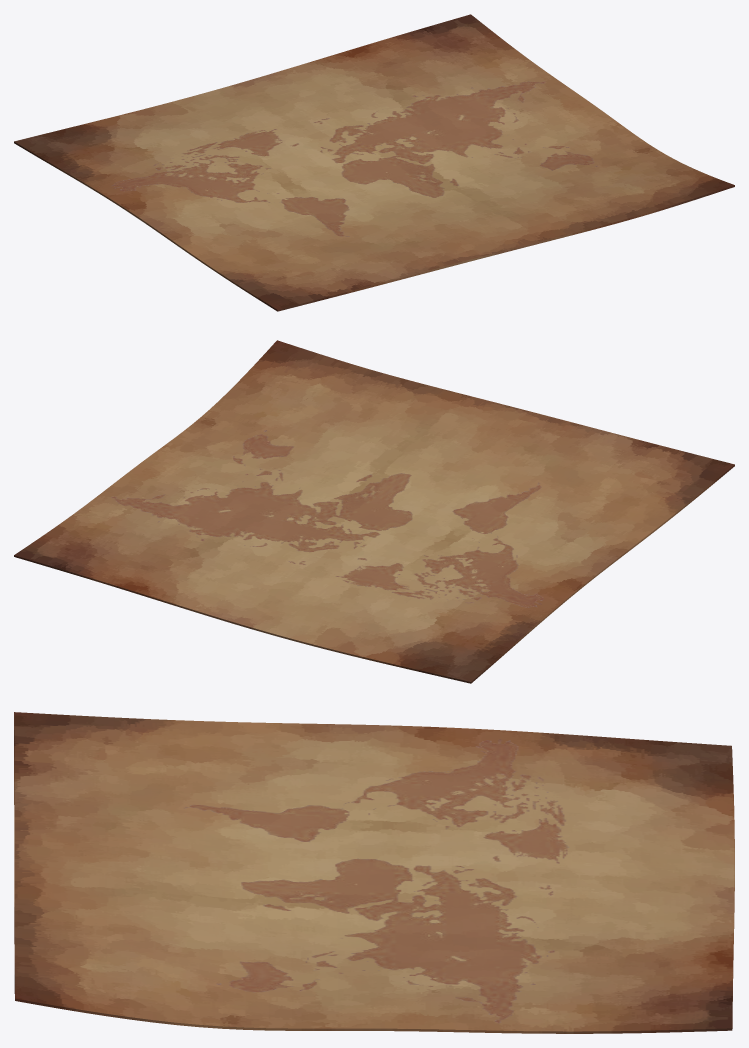
File: map parchment.obj
3 renders of one model, top to bottom at view 1: azimuth 30°, elevation 25°; view 2: azimuth 150°, elevation 25°; view 3: azimuth 270°, elevation 25°, orthographic. The views are drawn at different scales.
Visible parts, largest first — view 1: Plane; view 2: Plane; view 3: Plane.
Boxes of the visible parts, x1=… form: Plane: x1=14, y1=14, x2=734, y2=311; Plane: x1=14, y1=340, x2=734, y2=683; Plane: x1=14, y1=712, x2=734, y2=1033.
Bounding box in the file's own units: 2 × 0.1663 × 2.01.
